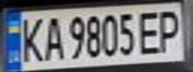0: (100, 11, 121, 57)
5: (115, 9, 139, 56)
8: (84, 11, 103, 60)
9: (63, 11, 84, 60)
A: (39, 12, 66, 62)
E: (136, 8, 163, 55)
K: (15, 13, 45, 64)
P: (154, 7, 187, 55)
